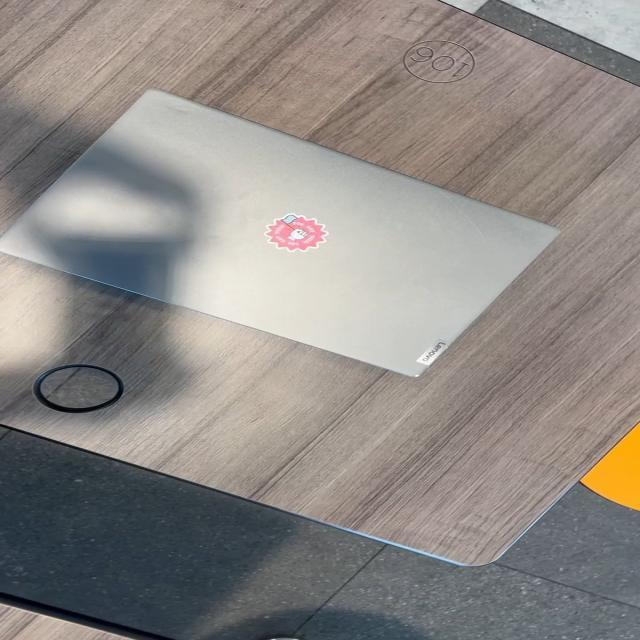laptop: (0, 87, 561, 379)
